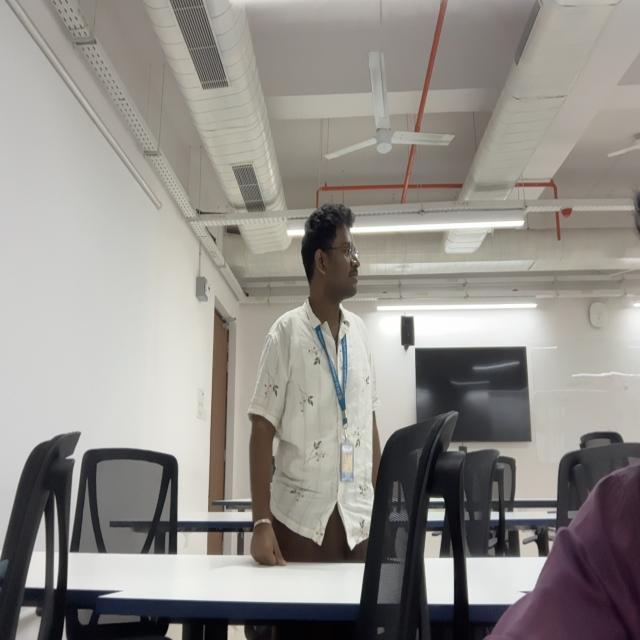sai: (299, 203, 361, 303)
